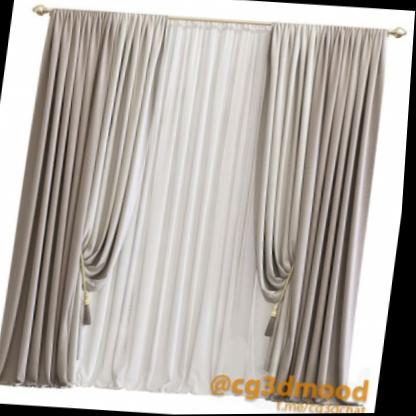Curtains: (0, 1, 407, 416)
